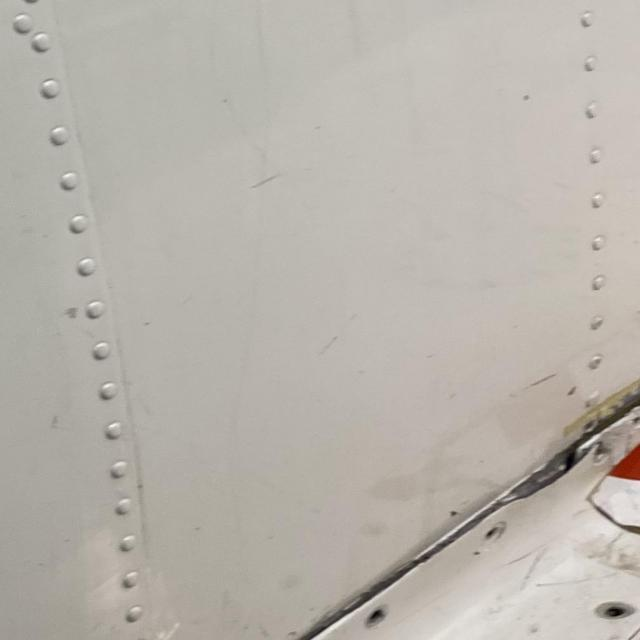Crack: (483, 448, 586, 507)
Missing-head: (598, 602, 639, 621), (485, 520, 509, 544), (365, 608, 389, 629)
